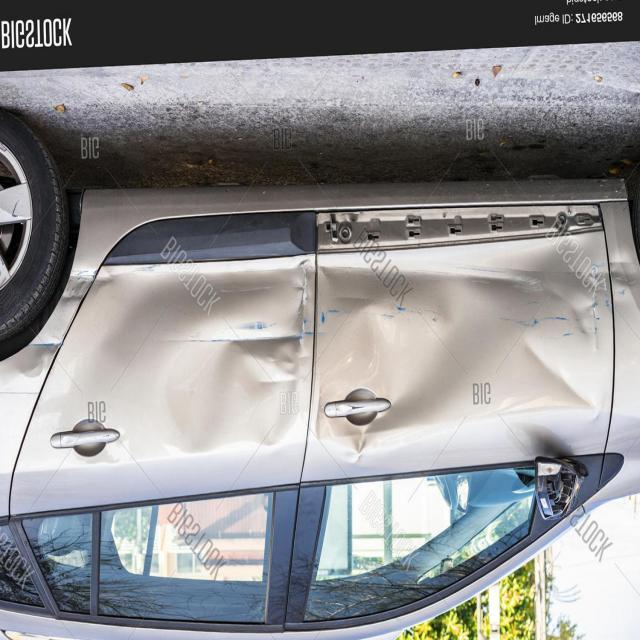dent: (14, 235, 322, 512), (333, 223, 618, 472)
